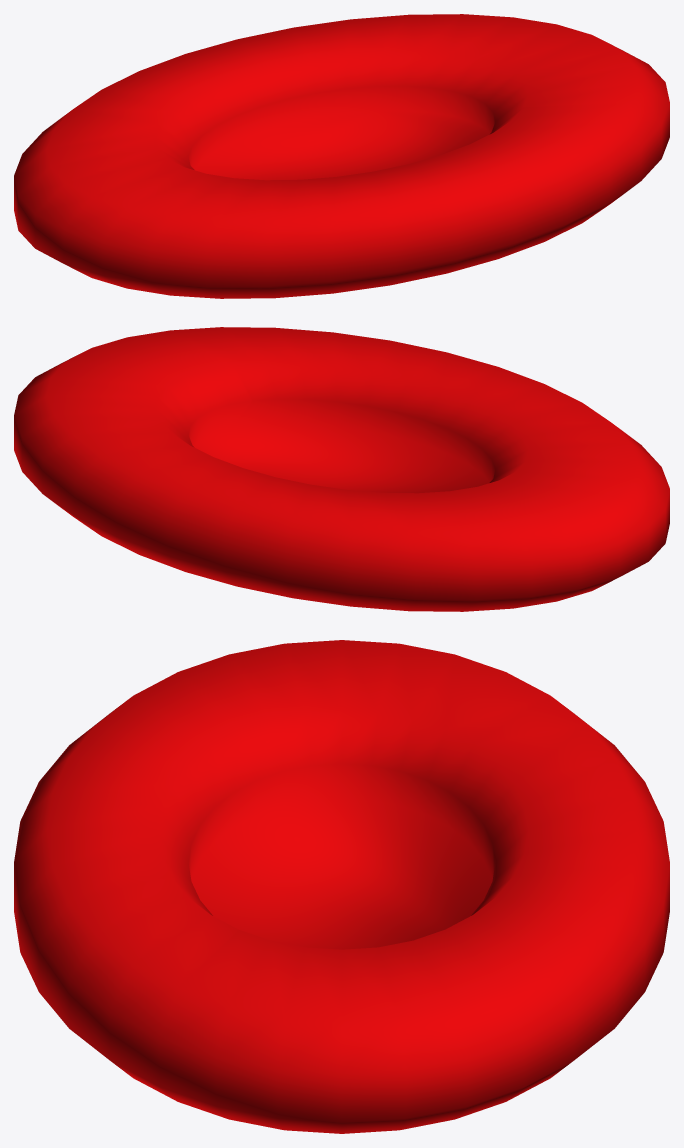
Rendered from red_blood_cell_2.fbx.
3 renders of one model, top to bottom at view 1: azimuth 30°, elevation 25°; view 2: azimuth 150°, elevation 25°; view 3: azimuth 270°, elevation 25°, orthographic. The views are drawn at different scales.
Parts seen in each view (by area): view 1: Cylinder.002; view 2: Cylinder.002; view 3: Cylinder.002.
Boxes of the visible parts, bbox=[...] form: Cylinder.002: bbox=[14, 14, 669, 298]; Cylinder.002: bbox=[14, 327, 669, 611]; Cylinder.002: bbox=[14, 640, 669, 1133].
Size of the model in its own units: 277 by 35 by 182.
